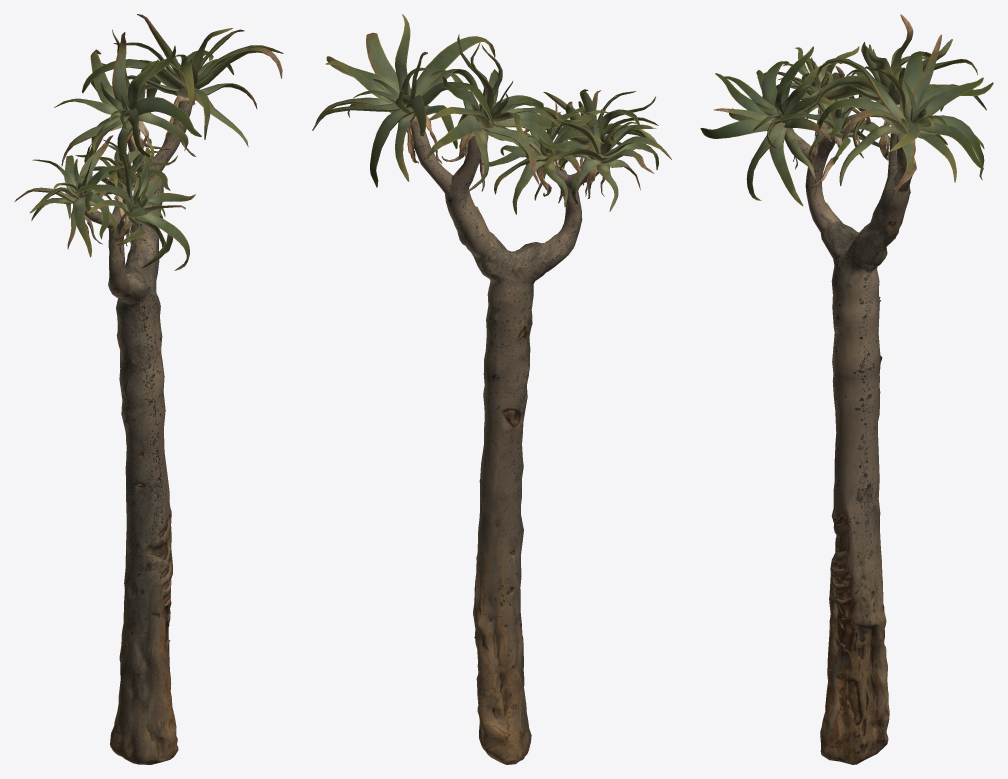
The model's file is quiver_tree_01.glb.
3 renders of one model, left to right at view 1: azimuth 30°, elevation 25°; view 2: azimuth 150°, elevation 25°; view 3: azimuth 270°, elevation 25°, orthographic. The views are drawn at different scales.
Parts seen in each view (by area): view 1: quiver_tree_01; view 2: quiver_tree_01; view 3: quiver_tree_01.
Part boxes in pixels (x1,y1,x2,y2): quiver_tree_01: (14,14,283,764); quiver_tree_01: (312,14,671,764); quiver_tree_01: (700,14,993,764).
Bounding box in the file's own units: 1.18 × 2.71 × 0.97.
Materials: 2 (2 with a texture image).
